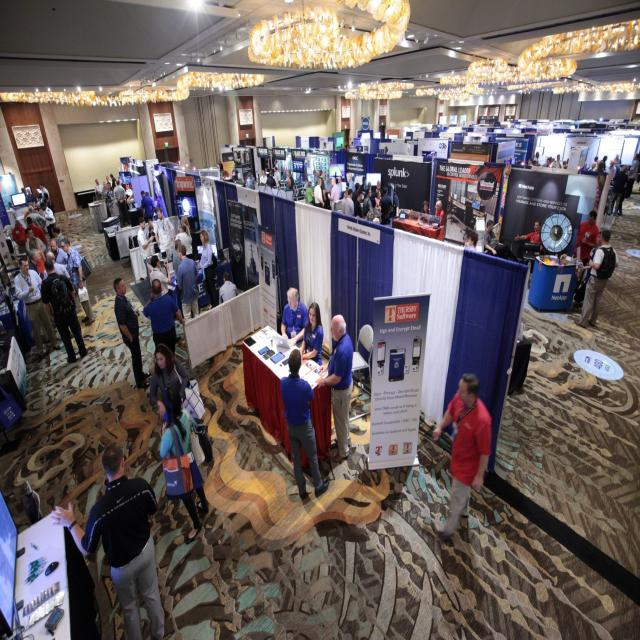body: (49, 440, 165, 640), (429, 371, 493, 545), (158, 386, 210, 546), (279, 347, 331, 501), (314, 313, 355, 464), (12, 256, 62, 364), (39, 256, 89, 364), (572, 228, 620, 329), (112, 276, 152, 390), (142, 278, 186, 357), (59, 236, 96, 328), (149, 343, 190, 421), (27, 248, 59, 344), (573, 229, 603, 305), (280, 287, 310, 349), (483, 219, 524, 264), (176, 244, 199, 323), (152, 207, 176, 279), (299, 302, 324, 371), (573, 209, 599, 265), (200, 230, 217, 310), (136, 216, 156, 284), (606, 164, 629, 217), (514, 219, 546, 256), (516, 152, 572, 171), (149, 254, 172, 296), (378, 186, 394, 243), (42, 250, 72, 280), (588, 153, 621, 180), (113, 180, 131, 226), (173, 221, 193, 259), (624, 153, 640, 199), (28, 237, 47, 275), (219, 270, 239, 305), (11, 218, 29, 256), (26, 216, 48, 247), (39, 201, 56, 239), (24, 228, 46, 256), (48, 238, 68, 268), (296, 158, 320, 183), (25, 205, 47, 231), (172, 239, 182, 284), (366, 198, 382, 224), (388, 182, 400, 216), (328, 178, 340, 211), (140, 190, 152, 223), (104, 182, 115, 217), (227, 148, 251, 164), (144, 191, 156, 222), (22, 203, 38, 225), (323, 176, 333, 211), (314, 177, 325, 208), (604, 180, 614, 214), (25, 188, 38, 213), (316, 170, 326, 202), (51, 225, 64, 249), (362, 188, 372, 219), (44, 192, 56, 217), (464, 231, 478, 252), (306, 181, 317, 207), (344, 188, 354, 216), (363, 181, 376, 202), (435, 200, 445, 227), (354, 191, 363, 218), (421, 200, 432, 222), (272, 158, 288, 173), (146, 218, 156, 240), (374, 189, 382, 215), (273, 165, 281, 190), (351, 182, 360, 204), (266, 170, 277, 187), (148, 225, 159, 242), (341, 189, 348, 215), (374, 180, 384, 198), (246, 172, 256, 190), (125, 192, 135, 210), (39, 182, 50, 198), (336, 175, 343, 200), (94, 178, 103, 197), (287, 170, 295, 191), (339, 141, 354, 152), (231, 163, 239, 183), (113, 180, 118, 210), (359, 176, 368, 192), (259, 169, 268, 184), (181, 215, 190, 230), (348, 173, 355, 192), (216, 163, 223, 181), (110, 173, 116, 190), (217, 159, 224, 173), (284, 178, 292, 190), (102, 181, 107, 198), (106, 175, 112, 188), (372, 218, 380, 225)
